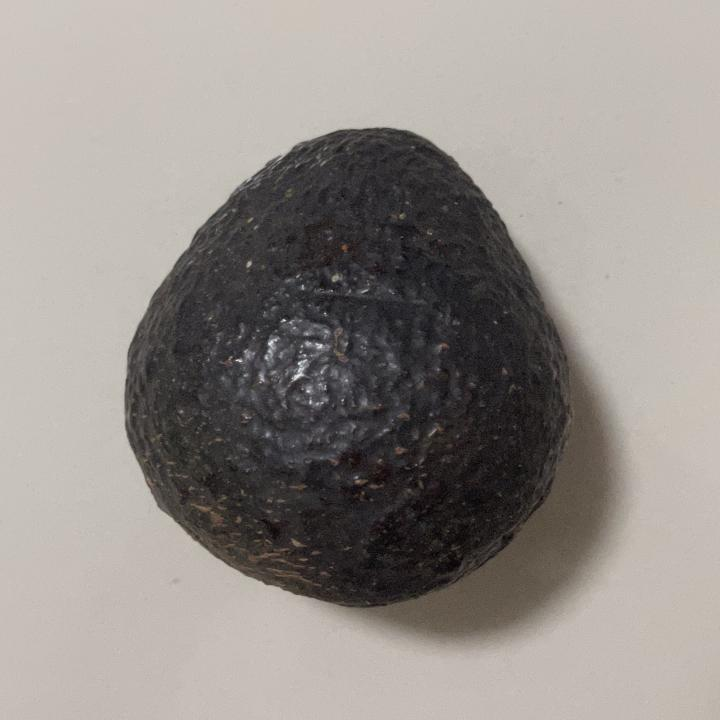Level2: (114, 120, 582, 614)
